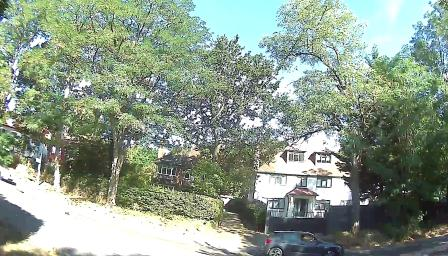Cars: (266, 230, 342, 250)
